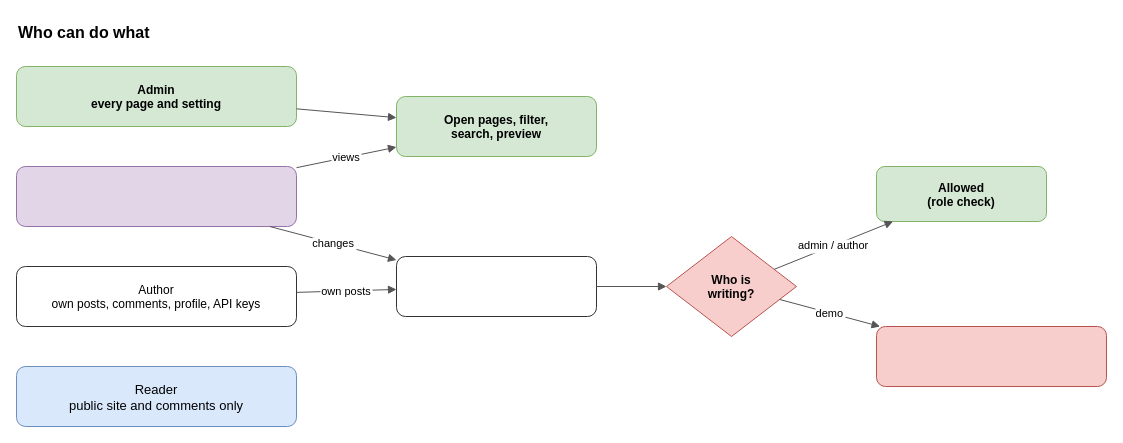
The diagram is 1123 pixels wide and 443 high, and some of its shapes have lost their labels. Here are the shapes that lost their labels. From the top down, the centre of each, then its label:
At (156,196): "Demo (read-only) sees what an admin sees".
At (496,286): "Save, publish, delete, send, sync, run AI".
At (991,356): "Refused: read-only notice (nothing stored, nothing sent)".
